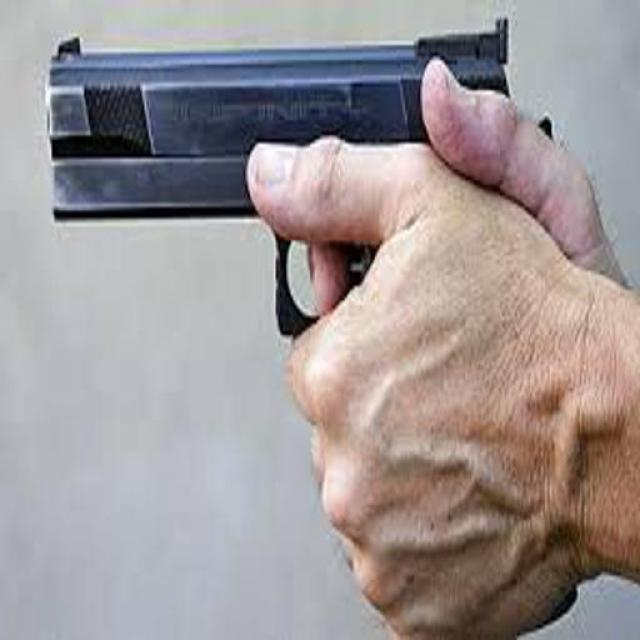pistol: (46, 15, 564, 365)
